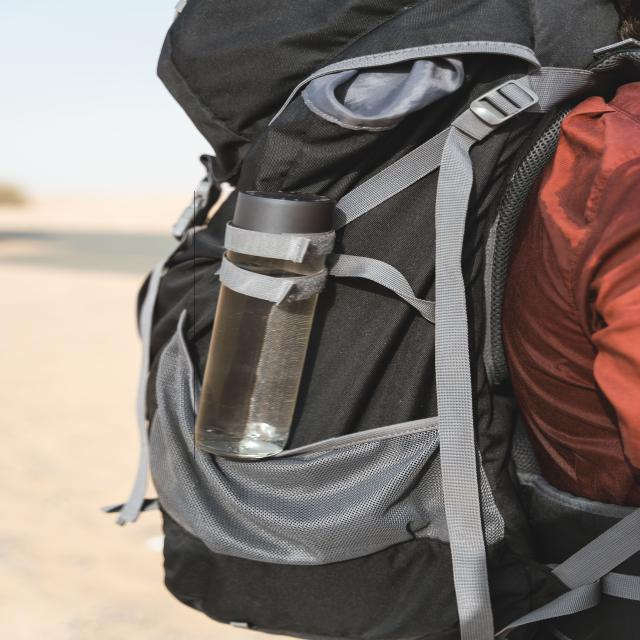Bottle: (195, 286, 316, 459)
